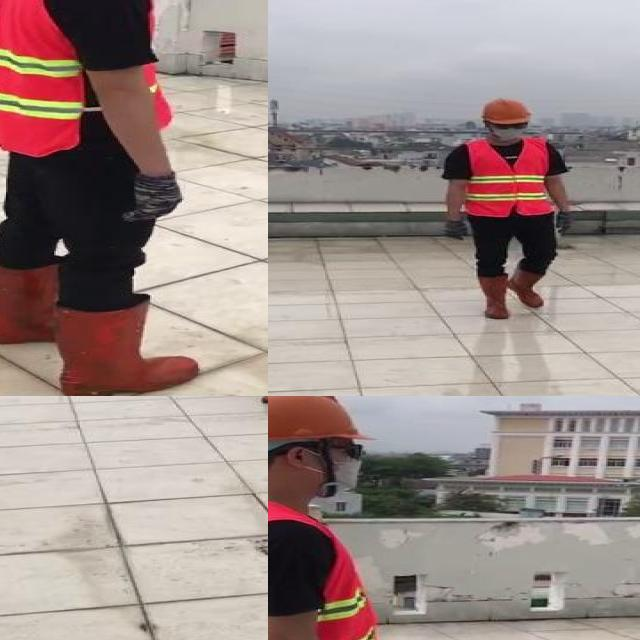boots: (45, 298, 199, 396), (0, 257, 59, 344), (472, 275, 510, 320), (508, 266, 547, 309)
face_mask: (289, 440, 372, 498), (487, 118, 529, 142)
glasses: (491, 119, 529, 131)
hand_glove: (127, 171, 184, 223), (440, 219, 470, 242), (549, 211, 574, 238)
head_helmet: (268, 396, 371, 445), (474, 96, 535, 127)
person: (0, 0, 223, 396), (268, 396, 425, 640), (441, 98, 581, 324)
vest: (268, 498, 389, 640), (0, 0, 96, 159), (466, 139, 556, 216), (141, 0, 175, 130)
